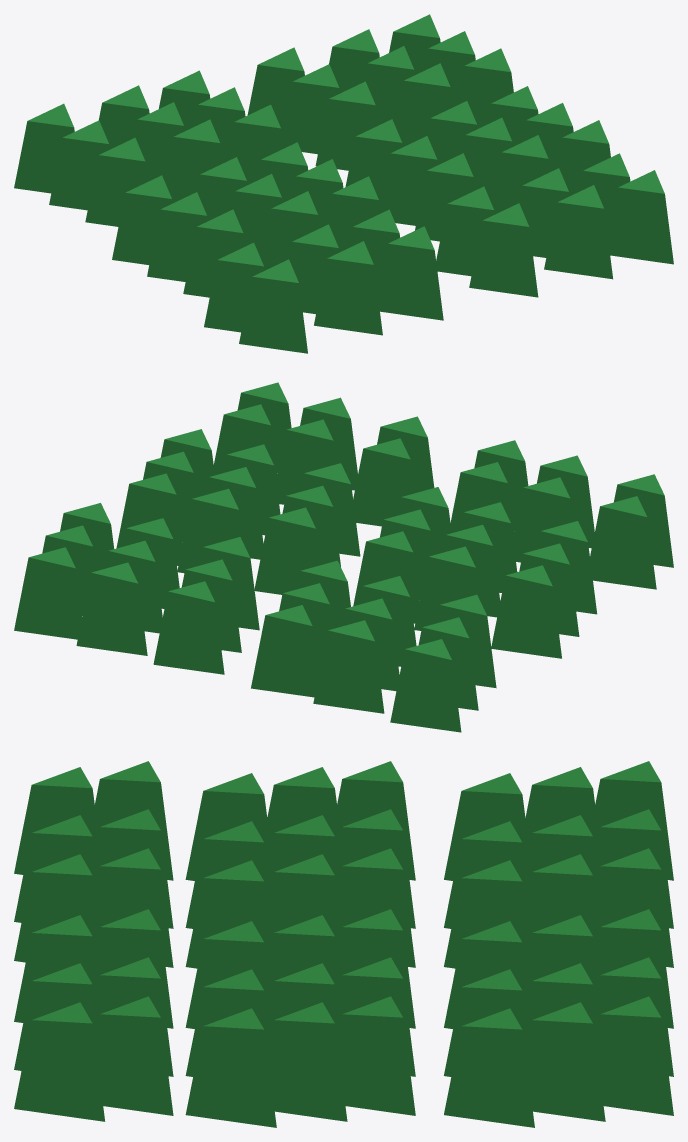
The model's file is wheatNotSolid.fbx.
3 views of the same model, one above another, from view 1: azimuth 30°, elevation 25°; view 2: azimuth 150°, elevation 25°; view 3: azimuth 270°, elevation 25° (orthographic). The views are drawn at different scales.
Visible parts, largest first — view 1: WheatNotSolid.006; view 2: WheatNotSolid.006; view 3: WheatNotSolid.006.
Boxes of the visible parts, box(x1,y1,x2,y2) form: WheatNotSolid.006: box(14, 14, 673, 353); WheatNotSolid.006: box(14, 382, 673, 732); WheatNotSolid.006: box(14, 761, 673, 1127).
Size of the model in its own units: 210 by 31.49 by 204.
